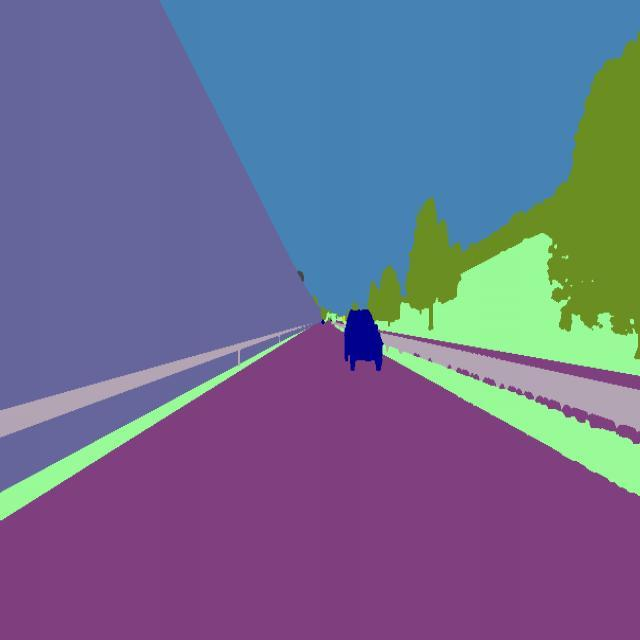safe: (336, 300, 388, 384)
